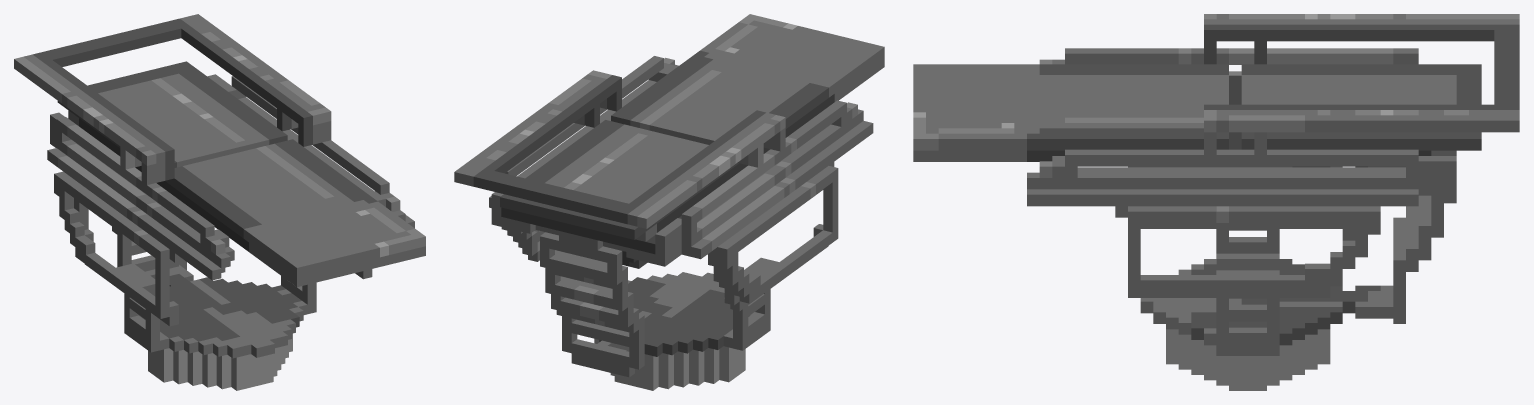
File: Examinination Table.obj
The picture shows the model from 3 angles, left to right: view 1: azimuth 30°, elevation 25°; view 2: azimuth 150°, elevation 25°; view 3: azimuth 270°, elevation 25°; orthographic projection. The views are drawn at different scales.
Bounding box in the file's own units: 24 × 25 × 48.
1 material, 1 textured.
